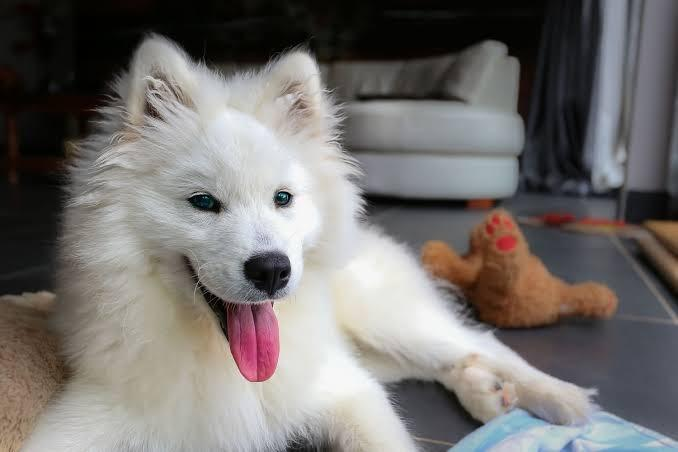adult_dog: (18, 29, 601, 452)
